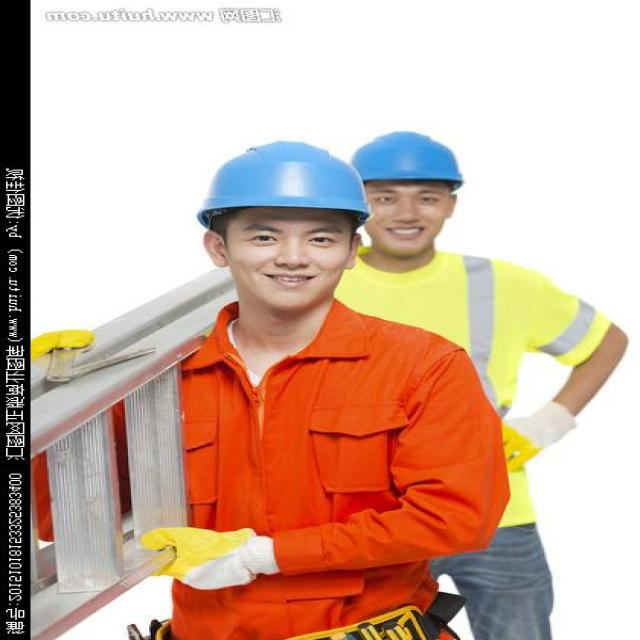Reflective-Jacket: (140, 281, 525, 640), (355, 252, 603, 540)
Safety-Helmet: (188, 136, 376, 228), (344, 125, 472, 191)
